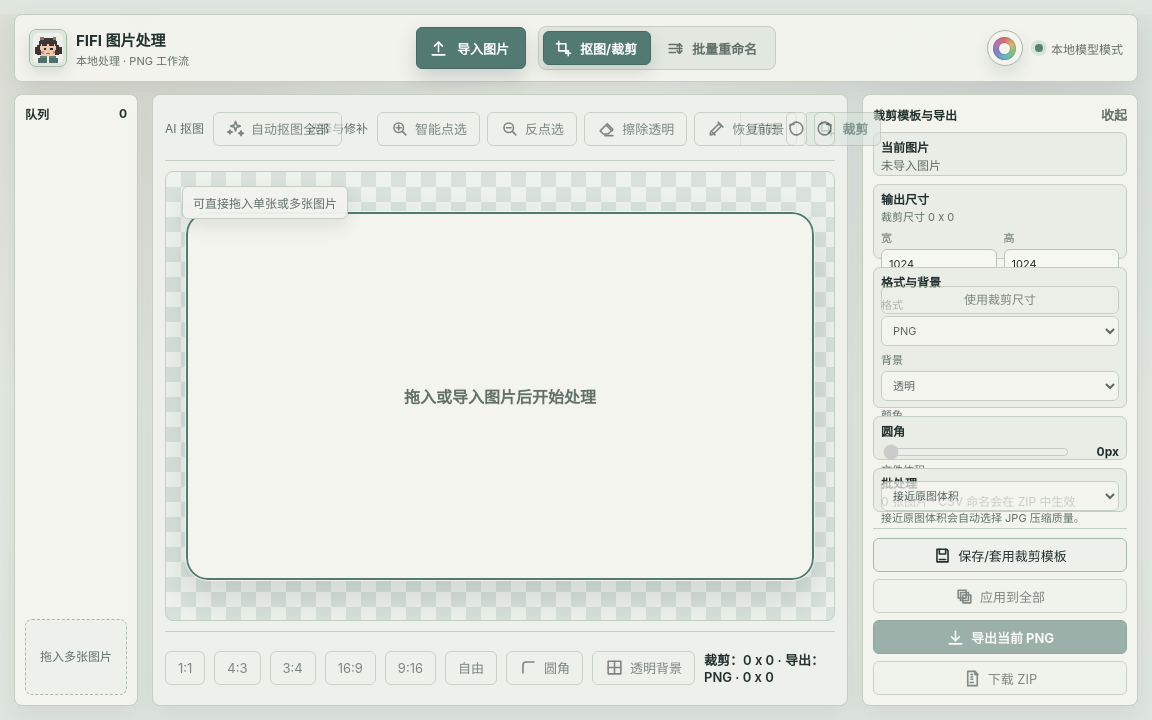
Test case: App layout › opens the crop template workflow from the export panel
Click the button "保存/套用裁剪模板" at x=1000, y=555, box top-left (873, 538), bottom-right (1127, 572)
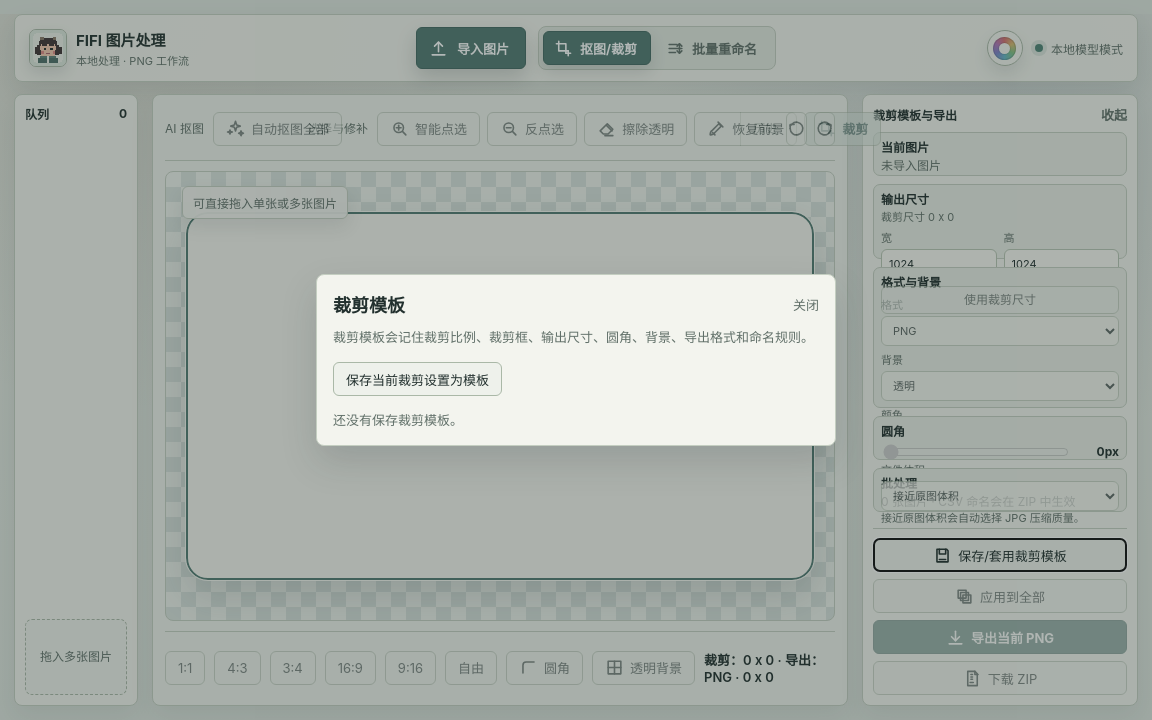
expect the dialog "裁剪模板" is shown: met, box top-left (316, 274), bottom-right (836, 446)
expect the button "保存当前裁剪设置为模板" is shown: met, box top-left (333, 362), bottom-right (502, 396)
